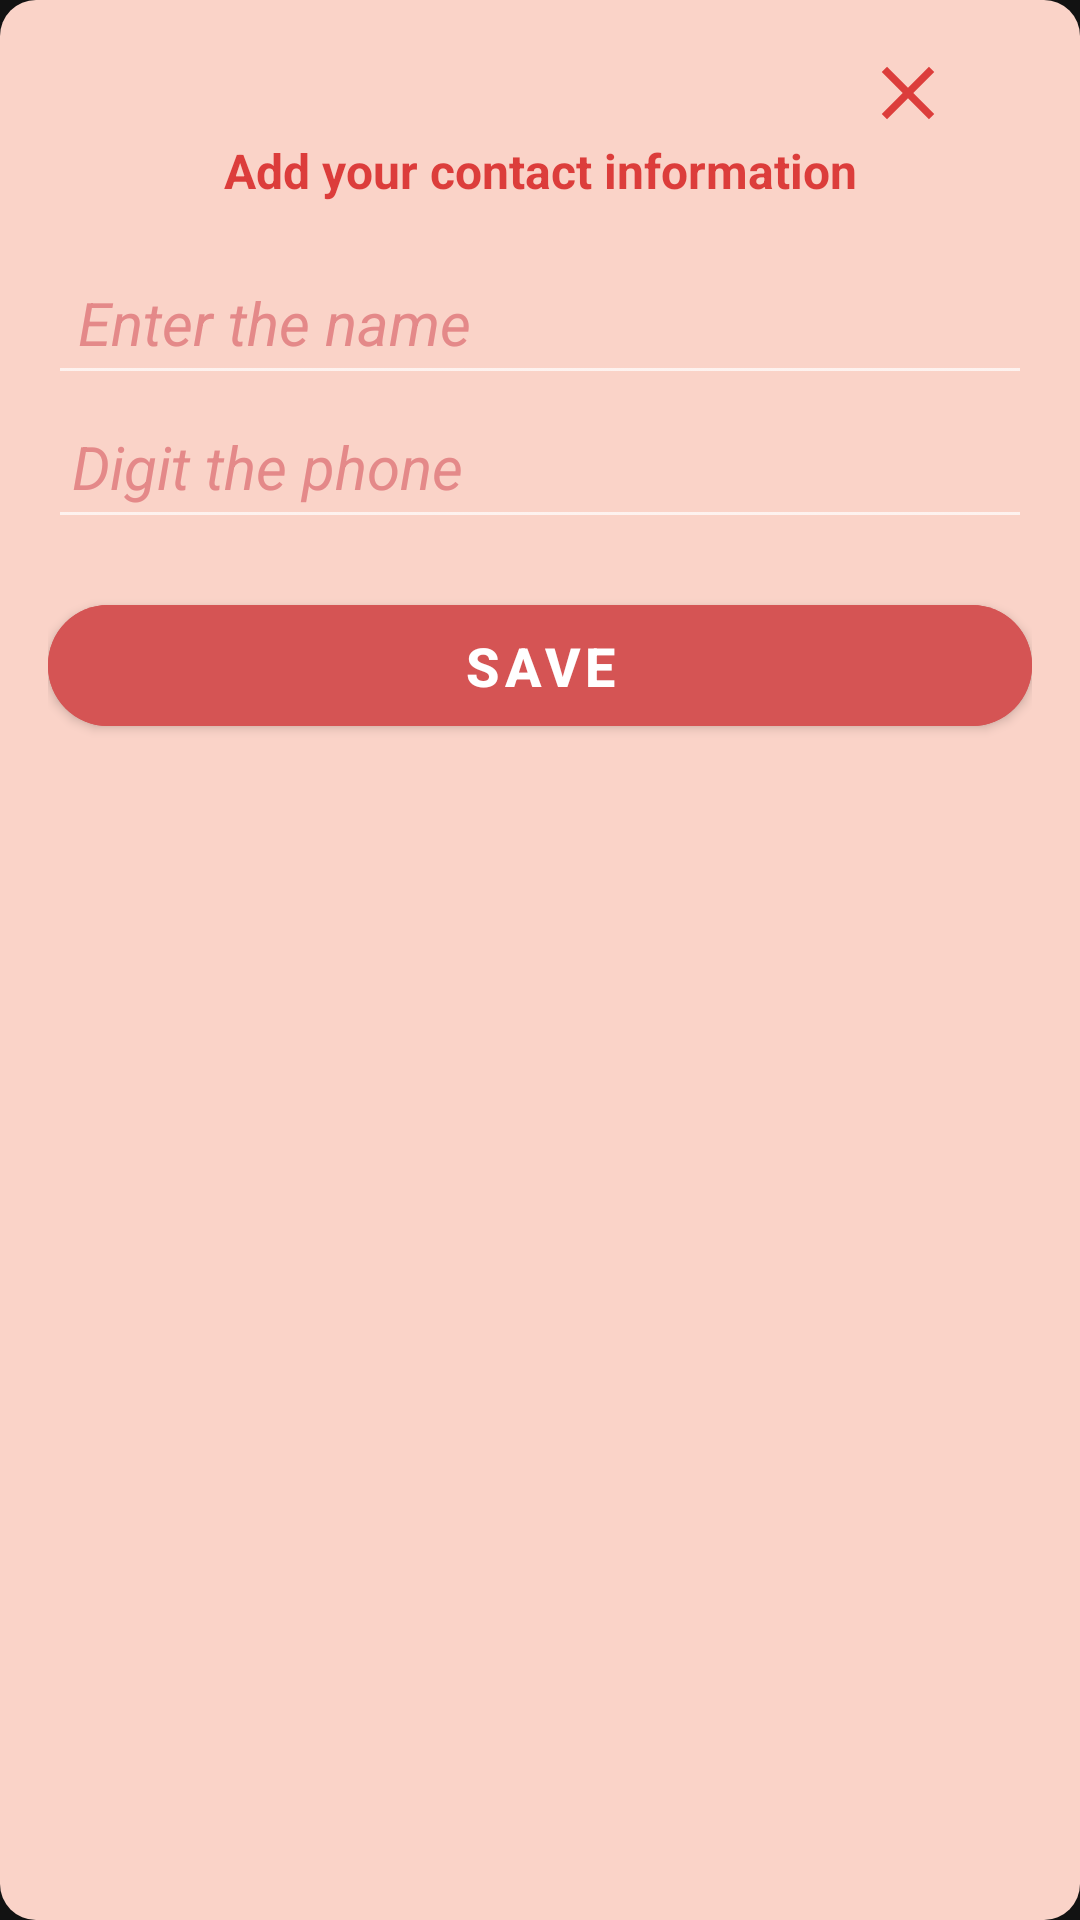

Screen size 1080w x 1920h. Icon name, then its box in pixels as [x1,y1,x2,y2]:
close: [882,67,934,119]
